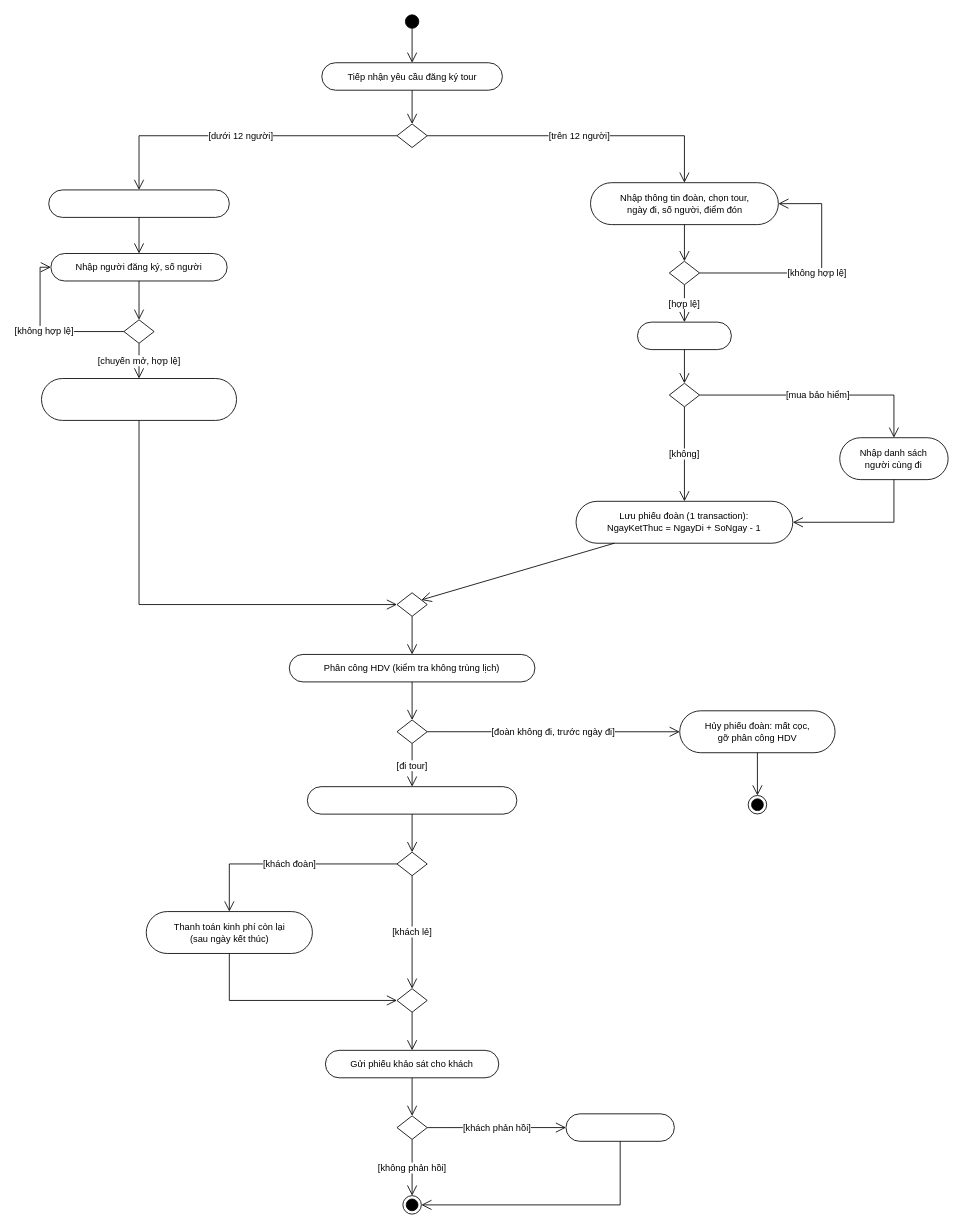
This 963x1230 diagram has some shape labels left out. Here are the shapes that lost their labels. From the top down, the centre of each, then its label:
At point (138, 203): "Chọn chuyến đang mở đăng ký".
At point (684, 335): "Thu tiền cọc".
At point (139, 399): "Thu tiền vé = DonGia x SoNguoi, lưu phiếu đăng ký lẻ".
At point (412, 800): "Thực hiện tour; kết thúc tại TP.HCM".
At point (619, 1127): "Ghi nhận góp ý".
